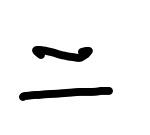eqv: (18, 45, 113, 102)
